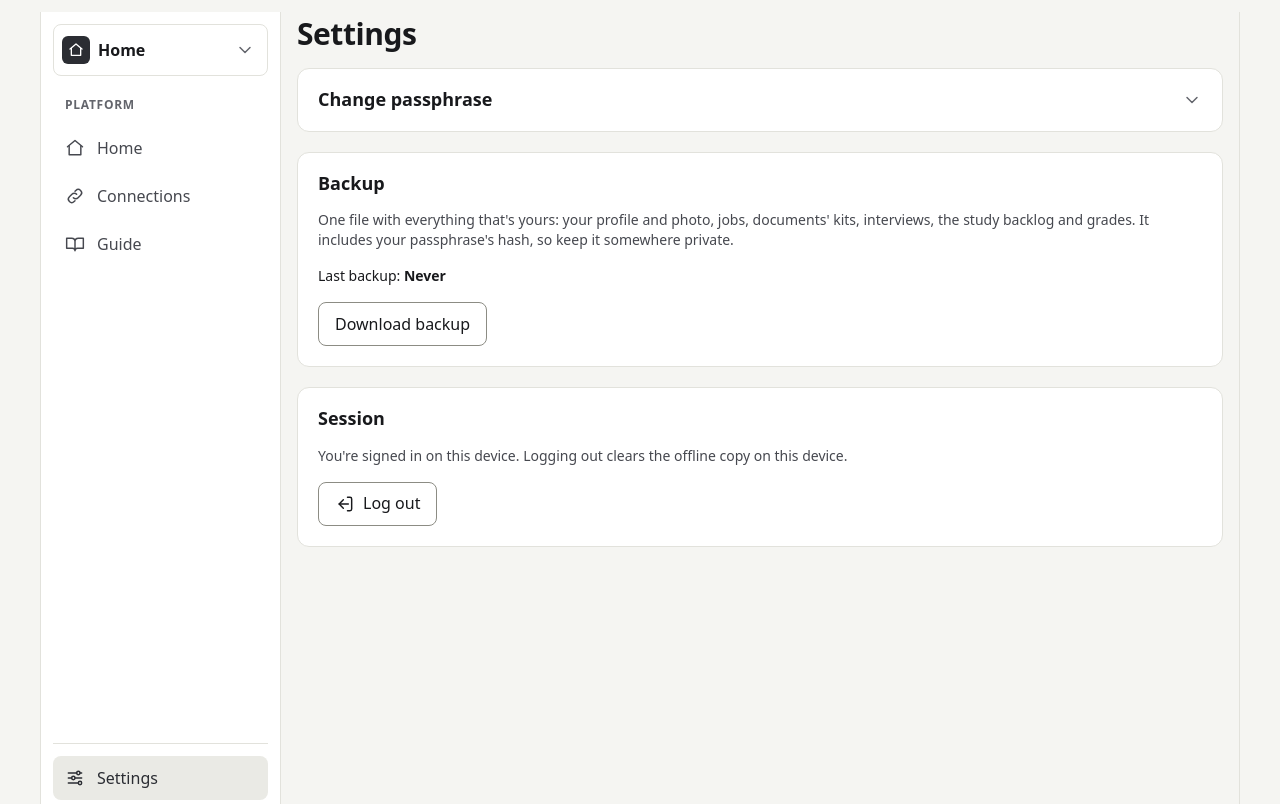
Test: Change passphrase › derives both keys here, sends neither passphrase, and swaps this device's session
Click the button "Change passphrase". click: [405, 99]
box: [318,89,1202,111]
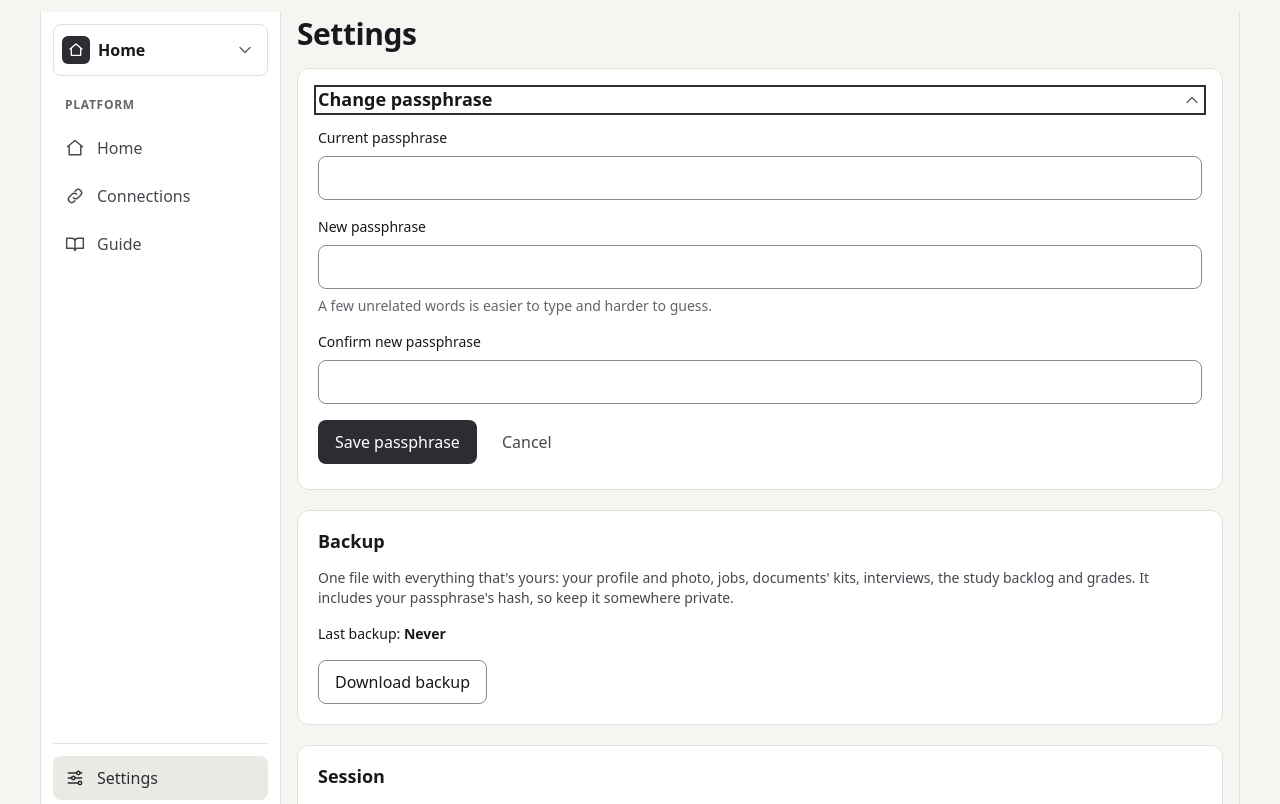
Type "the old passphrase" into the password field labelled "Current passphrase". click: [764, 178]
box: [331,157,1197,199]
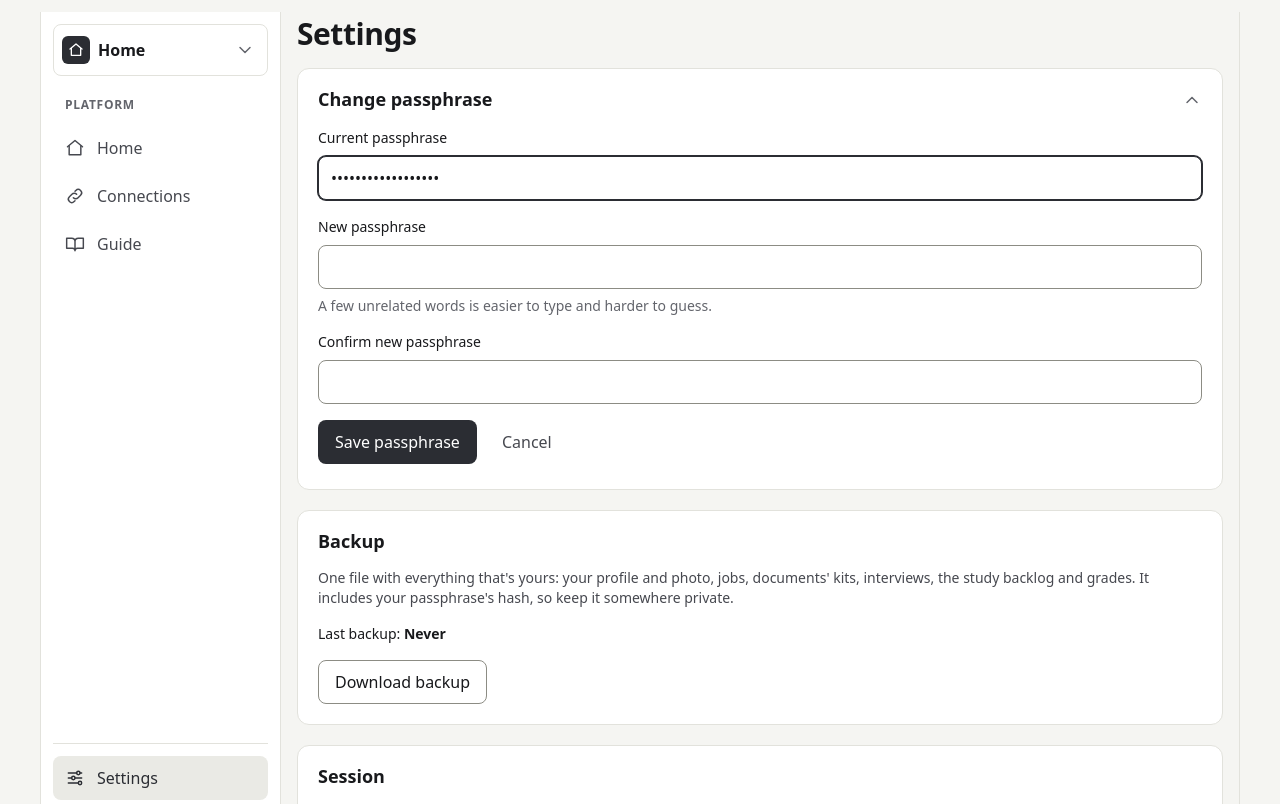
Type "lantern river copper" into the password field labelled "New passphrase". click: [764, 267]
box: [331,246,1197,288]
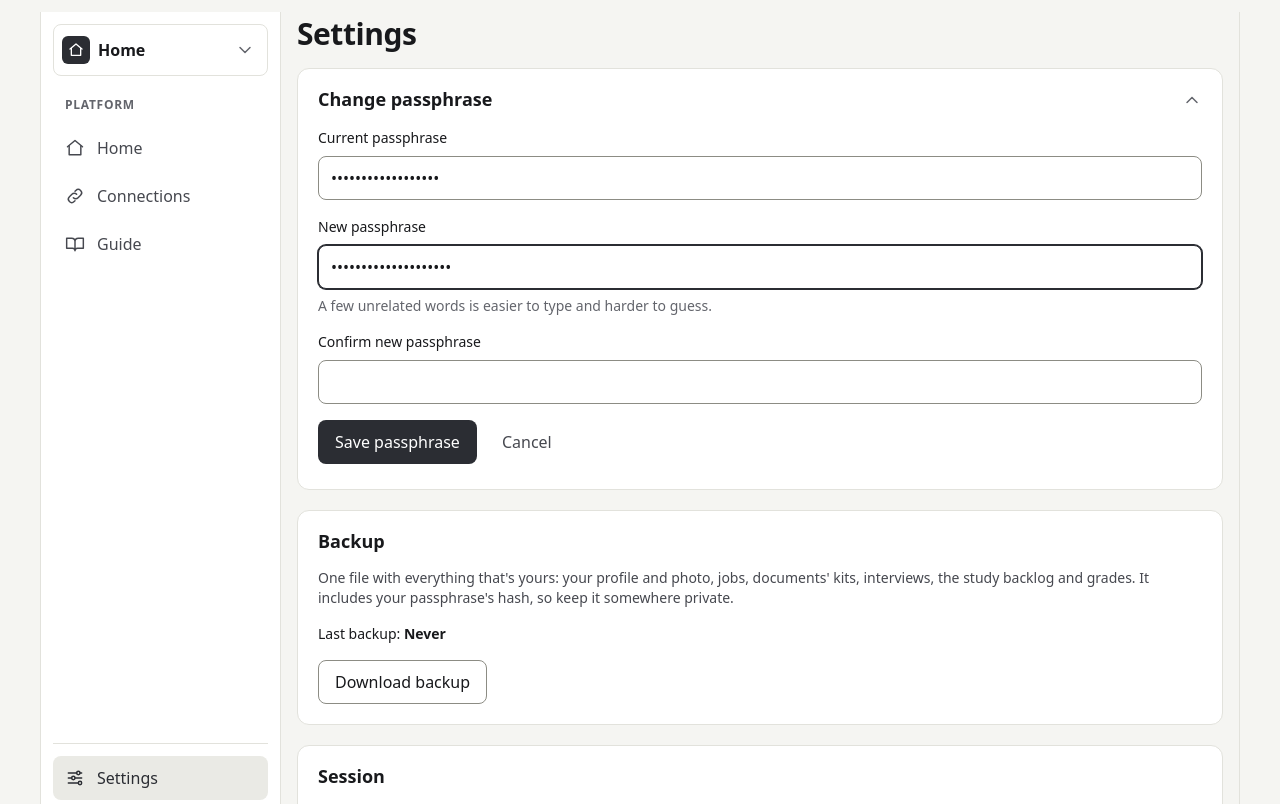
Type "lantern river copper" into the password field labelled "Confirm new passphrase". click: [764, 382]
box: [331,362,1197,404]
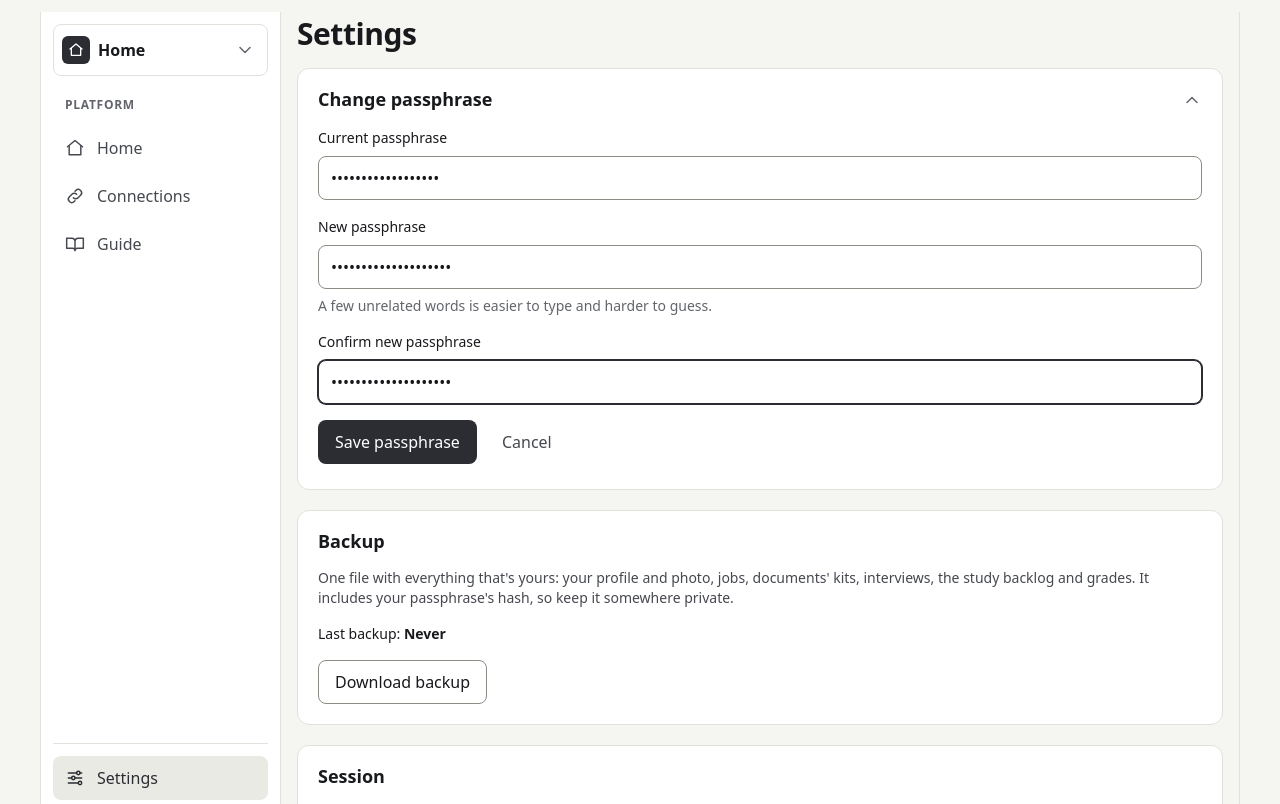
Click the button "Save passphrase". click: [397, 442]
box: [318,420,477,464]
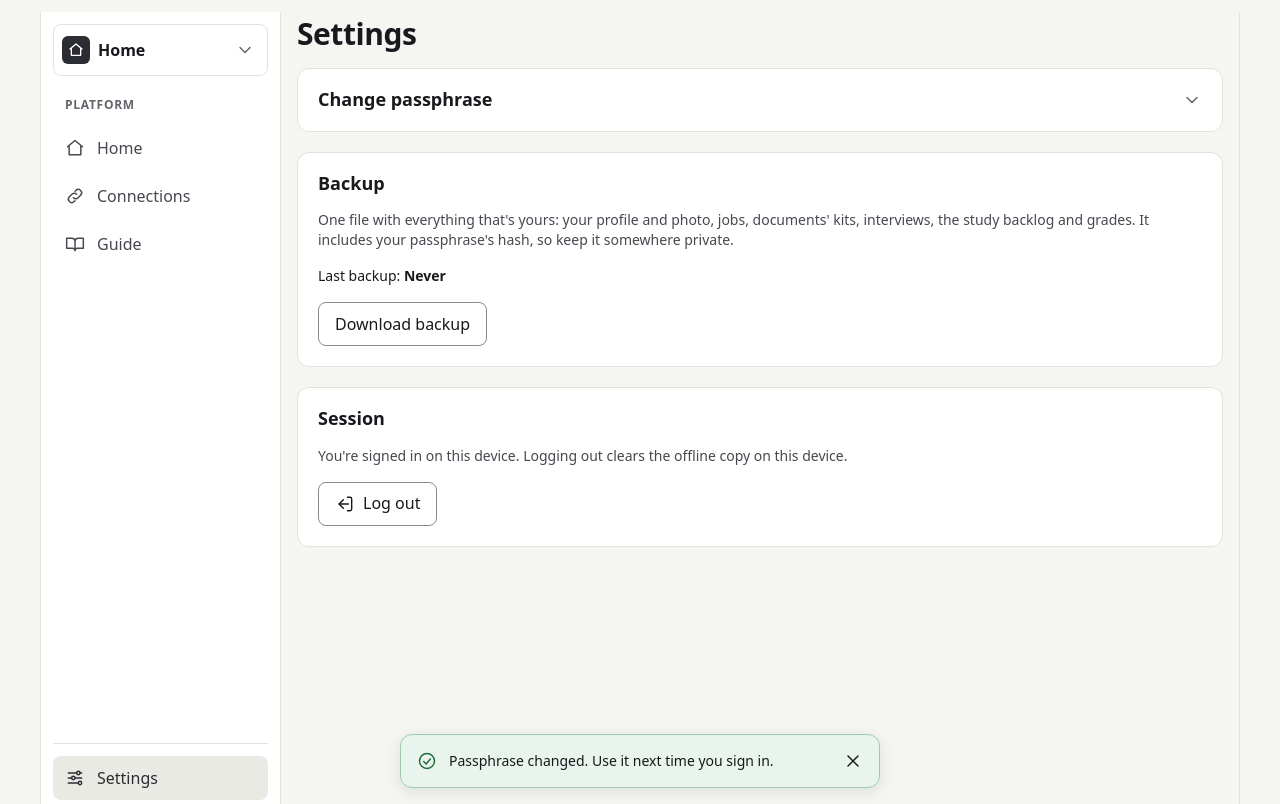
Expected: the text "Passphrase changed. Use it next time you sign in." is shown, [449,748,823,774]
Expected: the button "Change passphrase" is collapsed, [318,89,1202,111]
